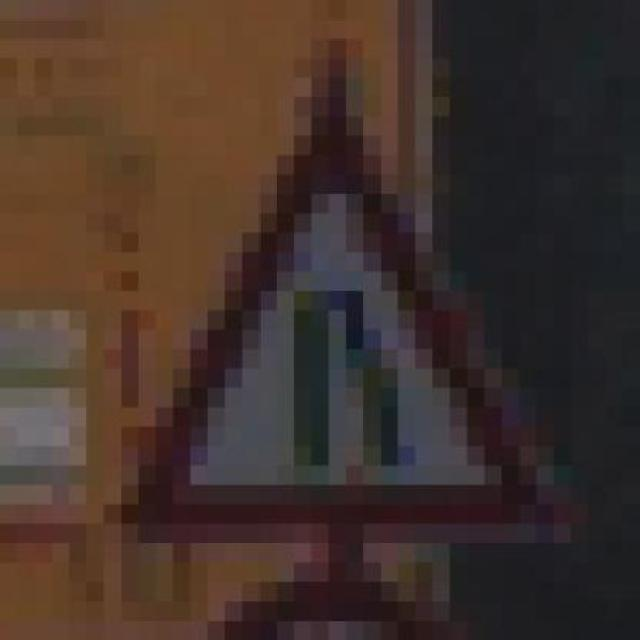-Road narrows on right: (69, 116, 588, 562)
